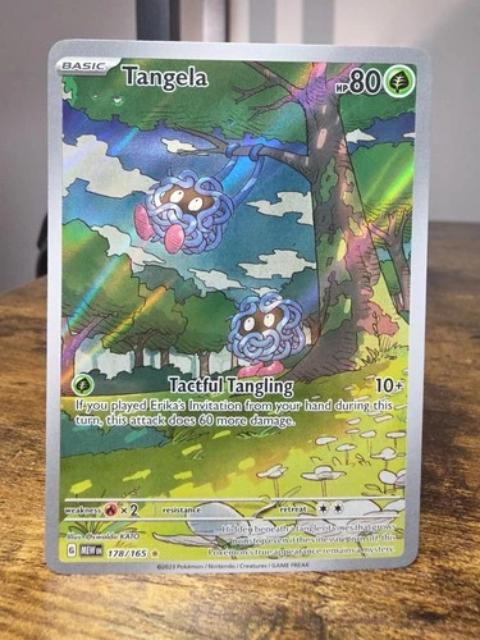Card: (41, 38, 435, 580)
Name: (116, 61, 212, 92)
